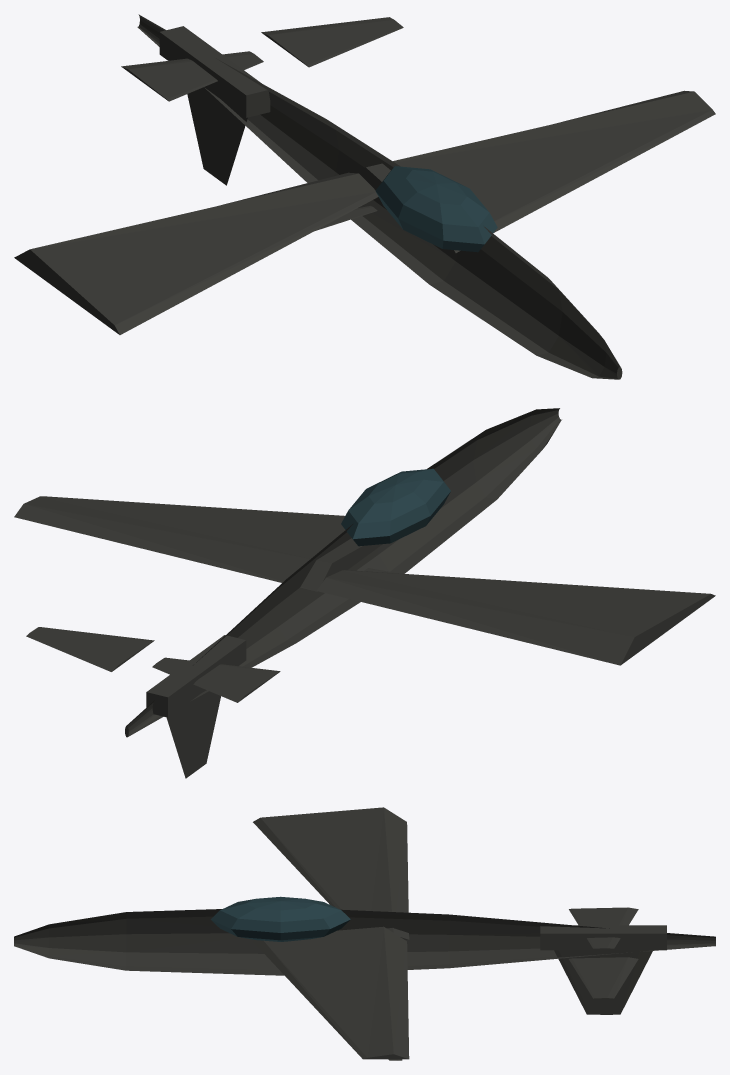
The model's file is mig23_Destroyed.glb.
The picture shows the model from 3 angles, top to bottom: view 1: azimuth 30°, elevation 25°; view 2: azimuth 150°, elevation 25°; view 3: azimuth 270°, elevation 25°; orthographic projection. The views are drawn at different scales.
Parts seen in each view (by area): view 1: Wing_L, Fuselage, Wing_R, Cockpit, TailBoom, Elevator_R, Rudder, Elevator_L; view 2: Wing_L, Wing_R, Fuselage, Cockpit, TailBoom, Elevator_R, Rudder, Elevator_L; view 3: Fuselage, Wing_R, Wing_L, Cockpit, TailBoom, Rudder, Elevator_R, Elevator_L.
Boxes of the visible parts, x1,y1,x2,y2 form: Wing_L: (14, 172, 378, 334); Fuselage: (137, 14, 622, 379); Wing_R: (355, 90, 715, 253); Cockpit: (375, 166, 497, 252); TailBoom: (159, 26, 270, 117); Elevator_R: (261, 17, 403, 67); Rudder: (187, 87, 247, 185); Elevator_L: (121, 51, 263, 101); Wing_L: (317, 570, 715, 665); Wing_R: (14, 496, 382, 591); Fuselage: (125, 408, 561, 737); Cockpit: (341, 468, 450, 546); TailBoom: (146, 635, 246, 717); Elevator_R: (26, 627, 154, 671); Rudder: (166, 690, 220, 778); Elevator_L: (152, 657, 280, 702); Fuselage: (14, 909, 715, 975); Wing_R: (253, 926, 409, 1059); Wing_L: (253, 807, 409, 939); Cockpit: (211, 896, 350, 941); TailBoom: (540, 925, 666, 950); Rudder: (554, 950, 652, 1014); Elevator_R: (569, 957, 638, 998); Elevator_L: (569, 907, 638, 948).
Bounding box in the file's own units: 13.44 × 2.98 × 16.7.
